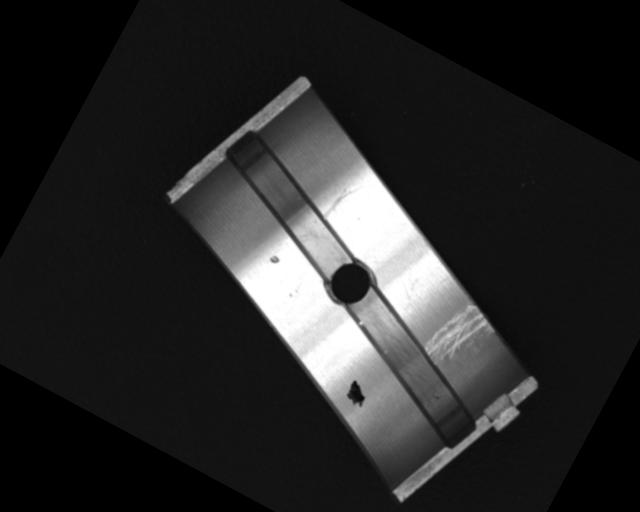blot: (340, 377, 373, 410)
bruise: (267, 253, 280, 266)
gap: (312, 285, 509, 454), (197, 126, 385, 283)
hole: (320, 252, 379, 312)
nick: (321, 177, 361, 226)
scratch: (421, 294, 498, 377)
